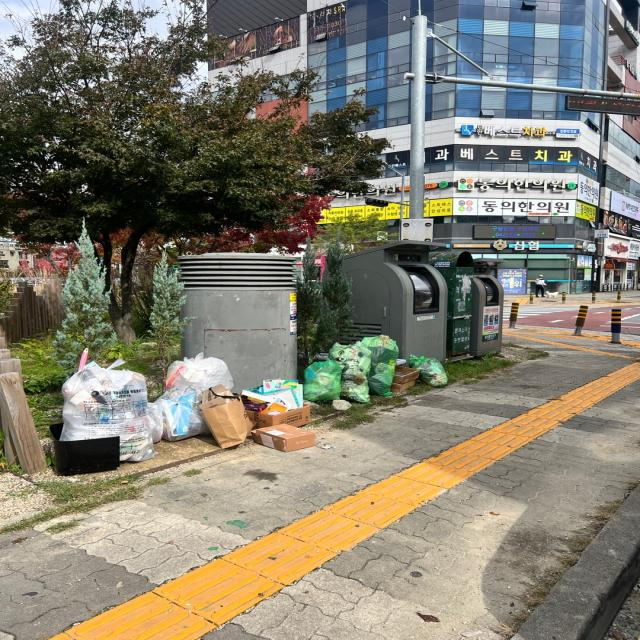CleanNet: (331, 235, 446, 379)
General Waste: (62, 361, 142, 468), (155, 358, 250, 446), (224, 377, 316, 444), (326, 341, 372, 413), (305, 355, 349, 404), (362, 333, 395, 391), (419, 351, 457, 386)
Large Waste Items: (0, 317, 32, 474)
